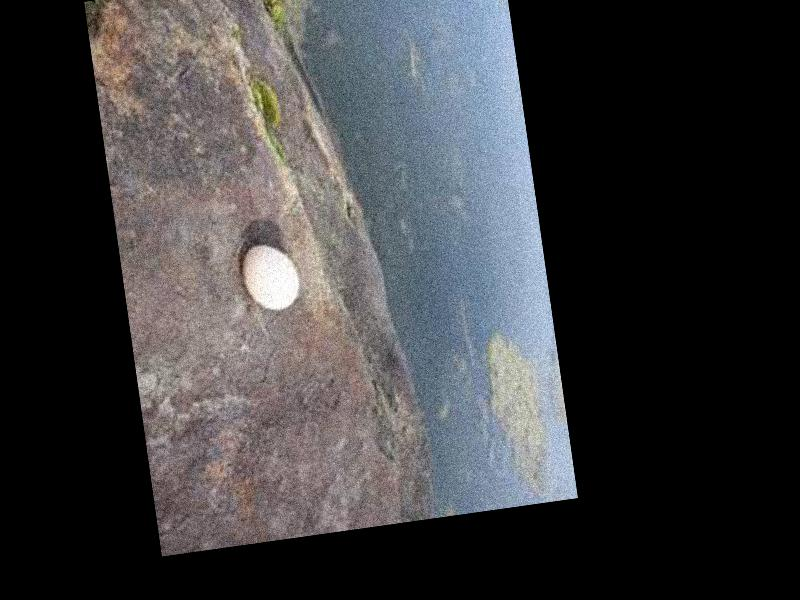Eggs: (240, 241, 304, 317)
